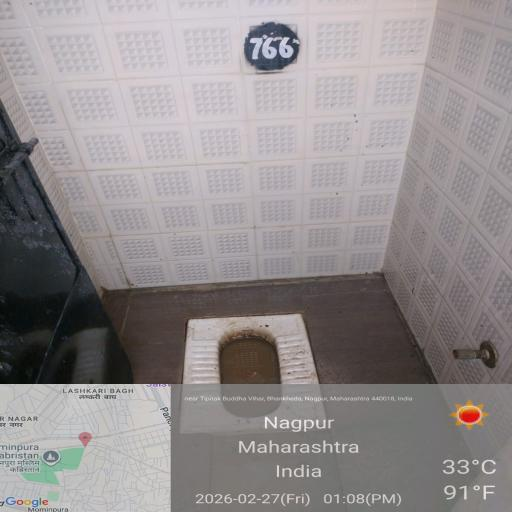clean_floor: (36, 22, 484, 230)
dirty_floor: (75, 260, 454, 512)
dirty_indian: (171, 314, 340, 444)
